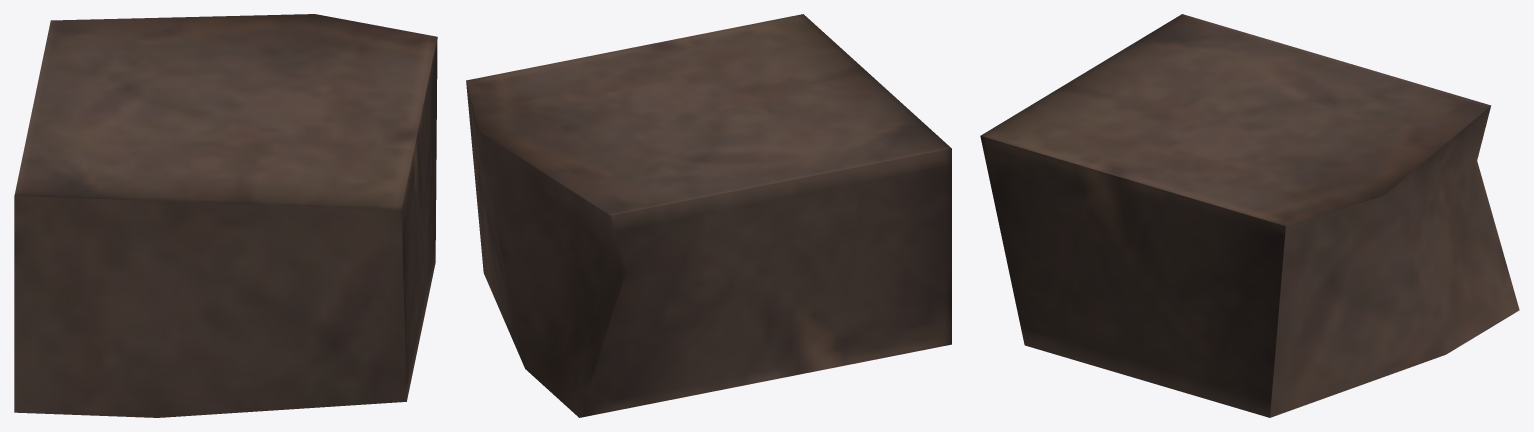
File: huoshan_Wujian_12.FBX
3 views of the same model, side by side, from view 1: azimuth 30°, elevation 25°; view 2: azimuth 150°, elevation 25°; view 3: azimuth 270°, elevation 25° (orthographic). The views are drawn at different scales.
Visible parts, largest first — view 1: huoshan_Wujian_12; view 2: huoshan_Wujian_12; view 3: huoshan_Wujian_12.
Boxes of the visible parts, <box> form: huoshan_Wujian_12: <box>14,14,437,417</box>; huoshan_Wujian_12: <box>466,14,951,417</box>; huoshan_Wujian_12: <box>980,14,1519,417</box>.
Size of the model in its own units: 34.98 by 15.09 by 37.56.
